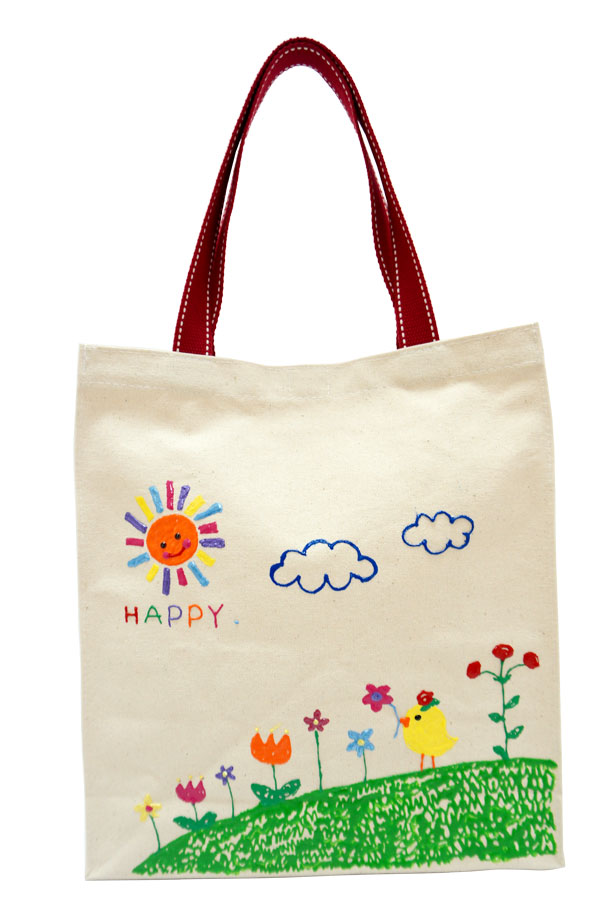flexible: (74, 29, 564, 876)
